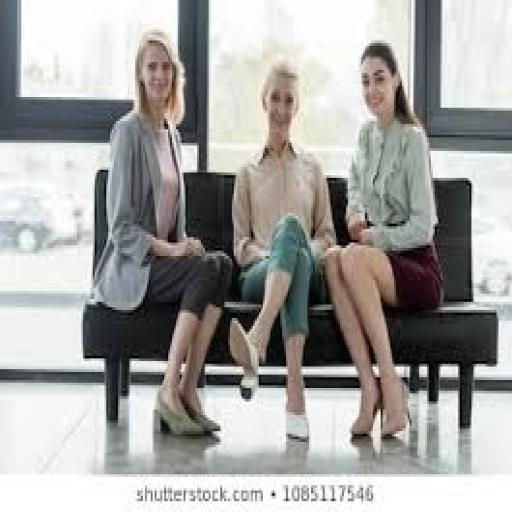sitting: (91, 27, 446, 445), (91, 27, 234, 439), (321, 38, 444, 442), (228, 57, 338, 442)
